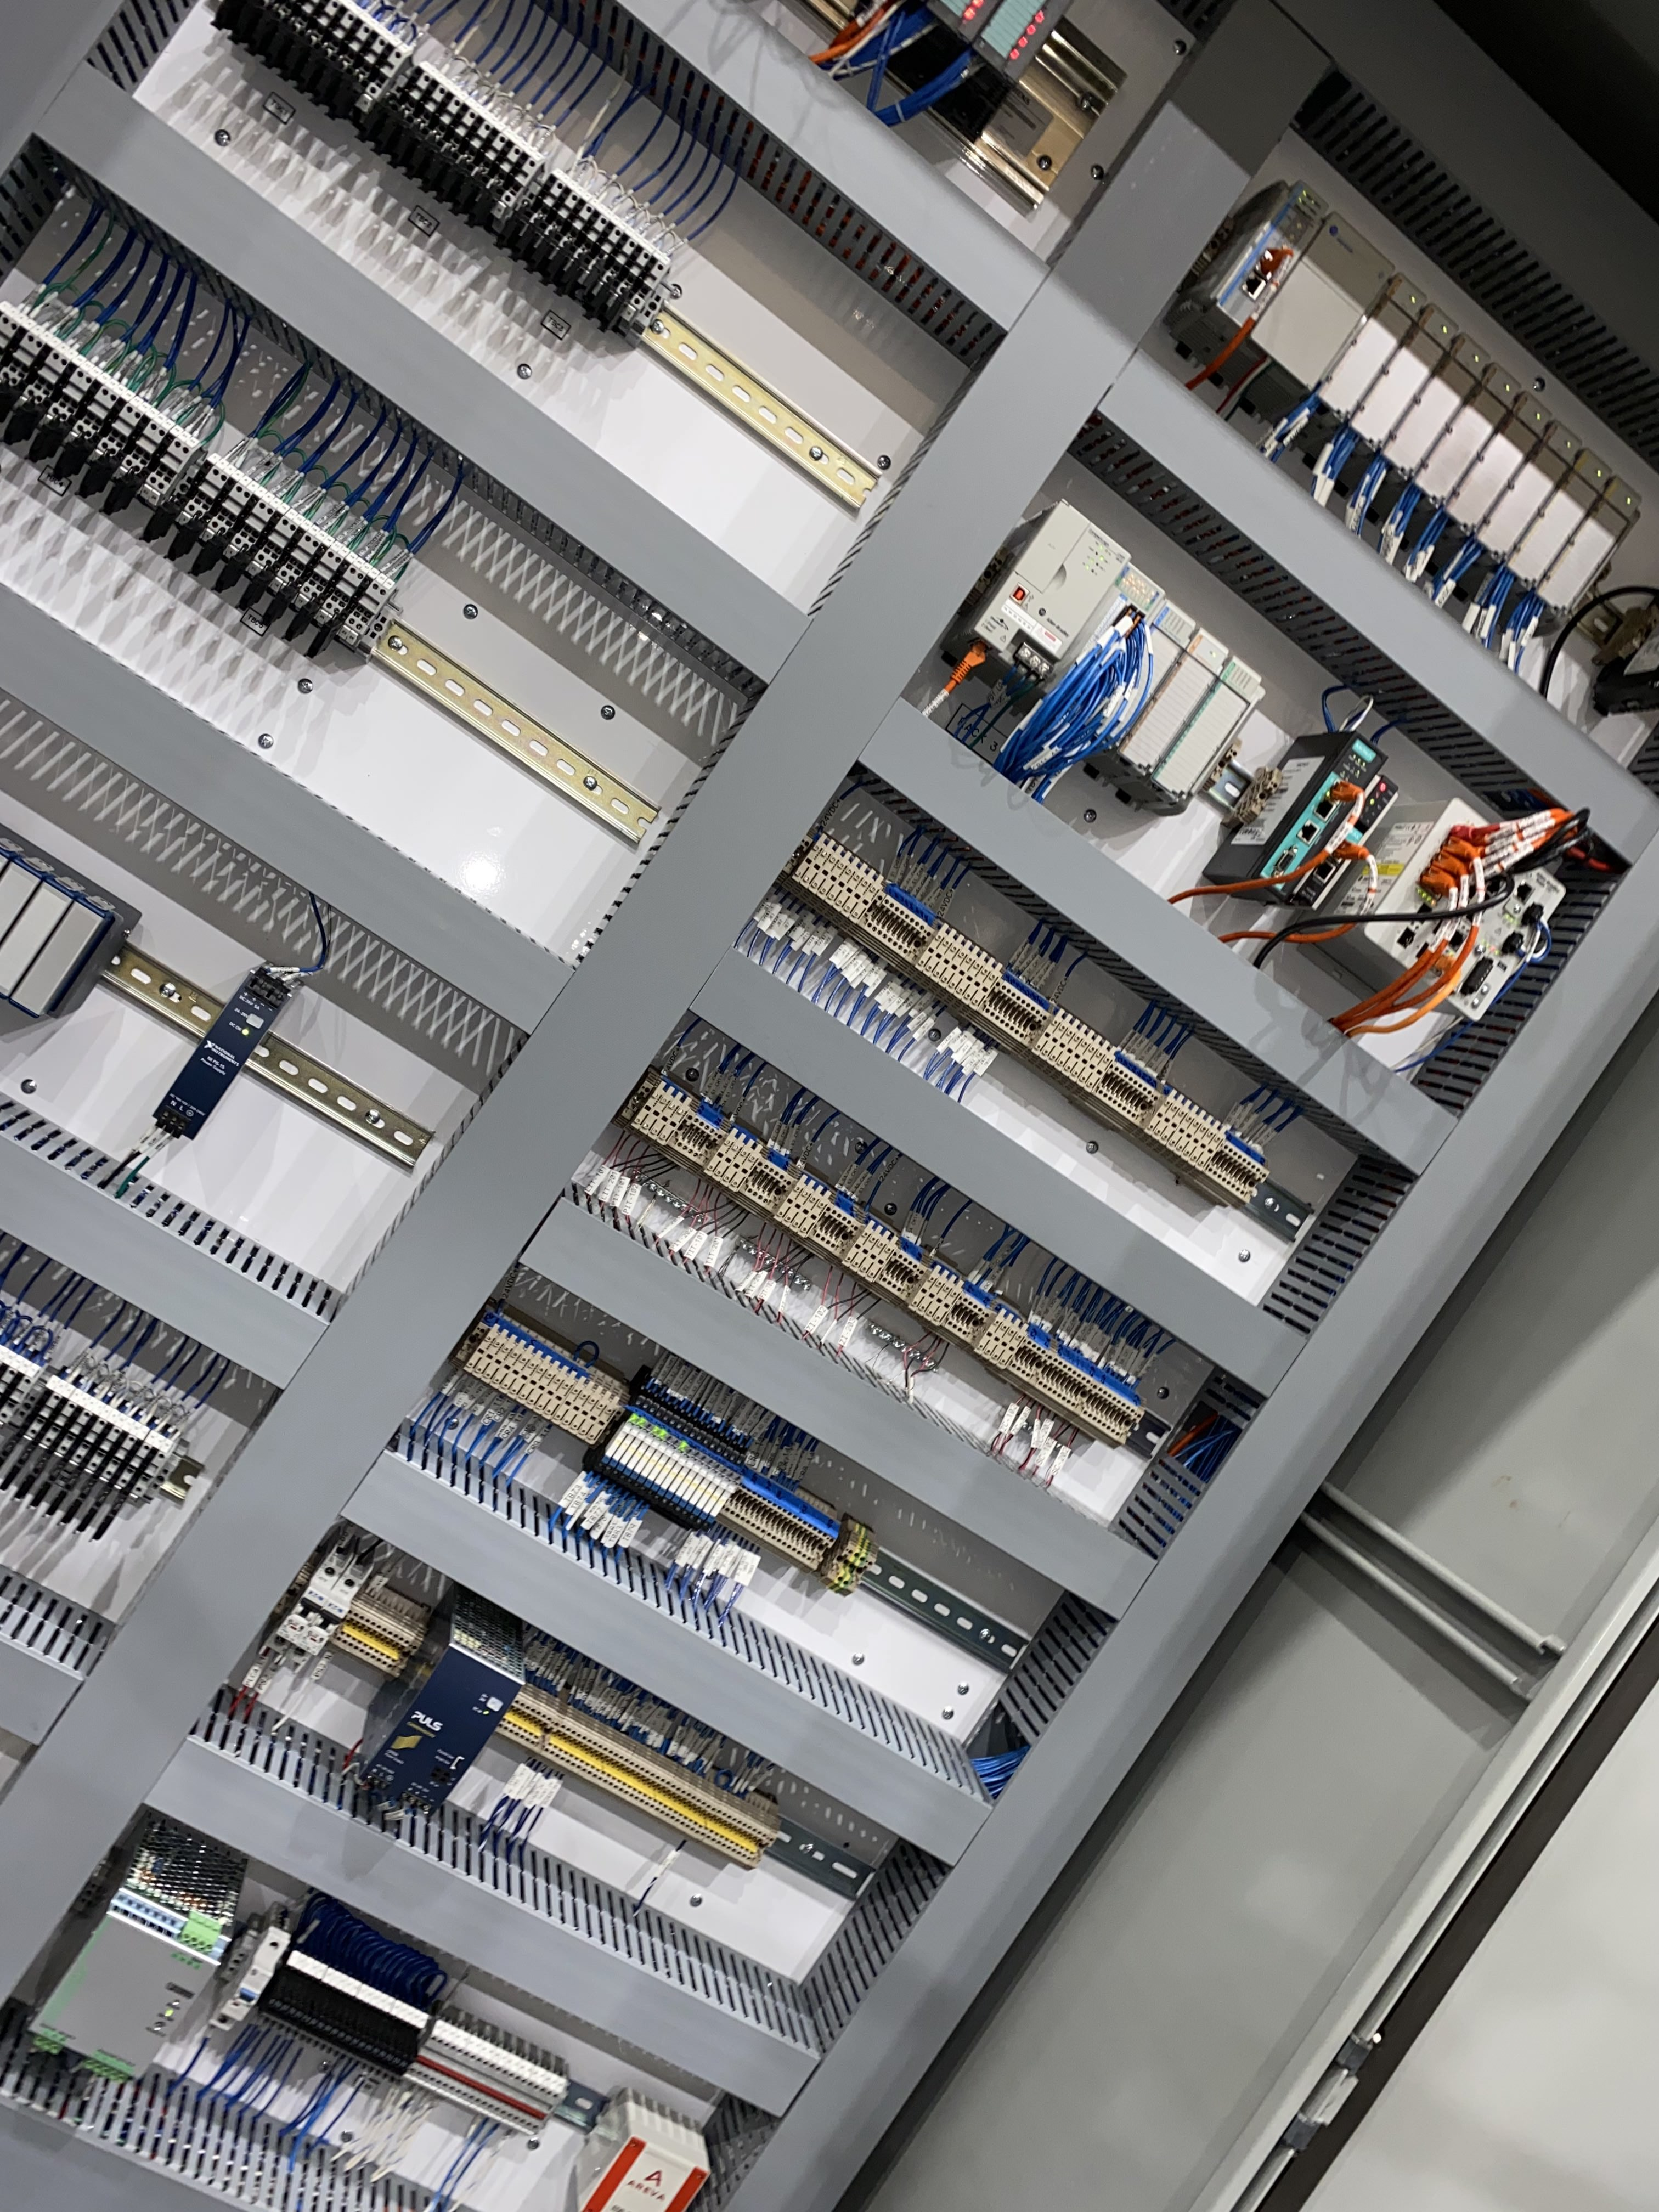AllenBradley: (964, 493, 1131, 690)
